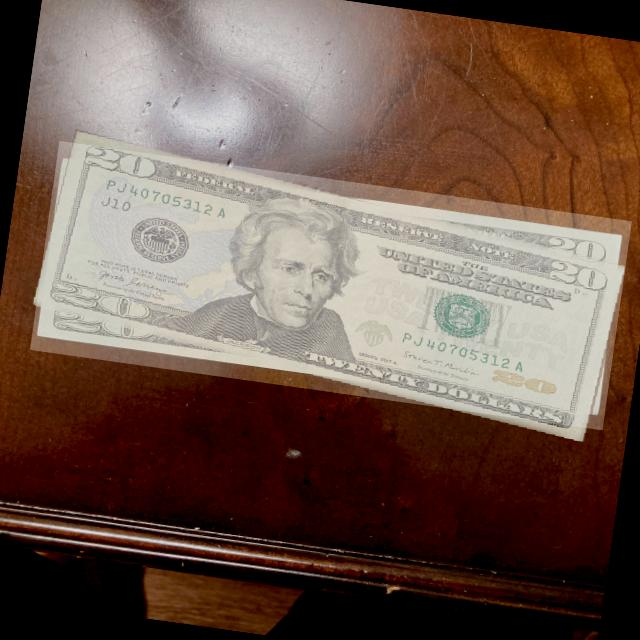twenty: (31, 141, 632, 430)
